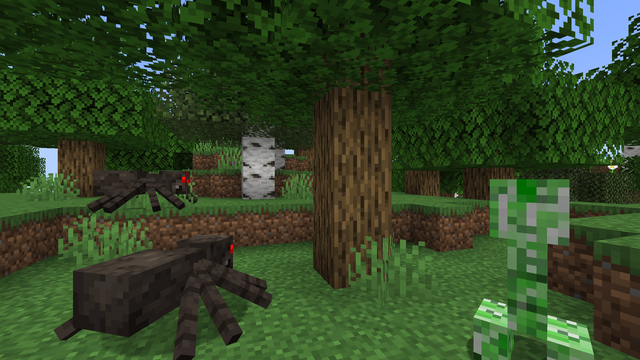araignees: (78, 226, 246, 357), (98, 164, 192, 213)
creepers: (472, 169, 593, 359)
